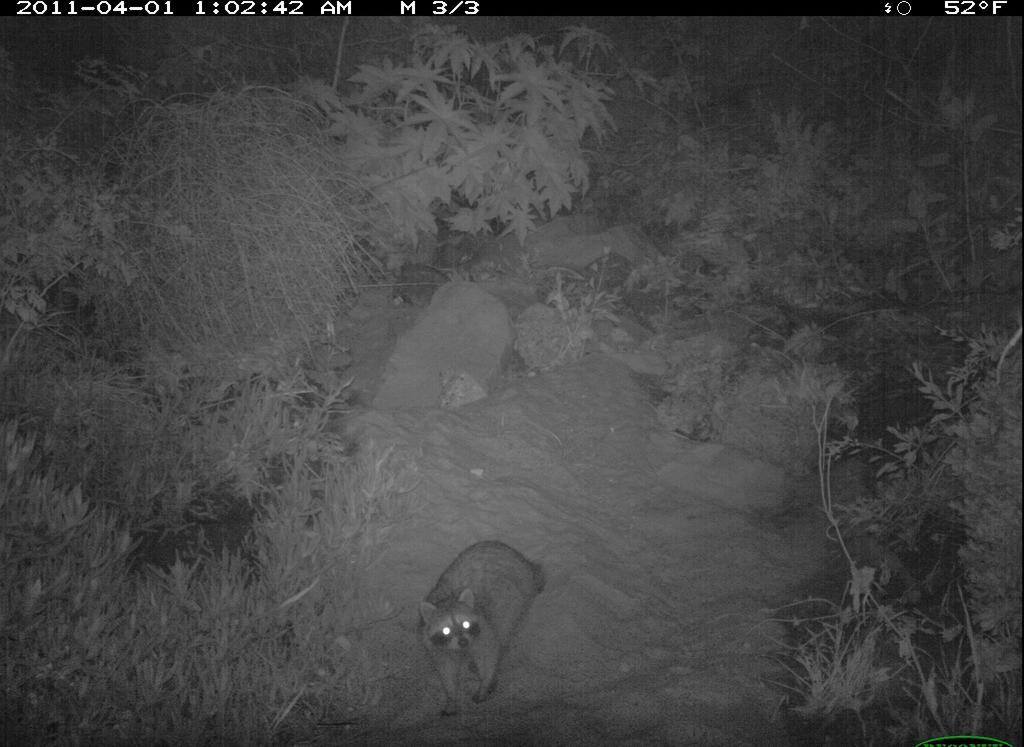raccoon: (405, 530, 564, 720)
